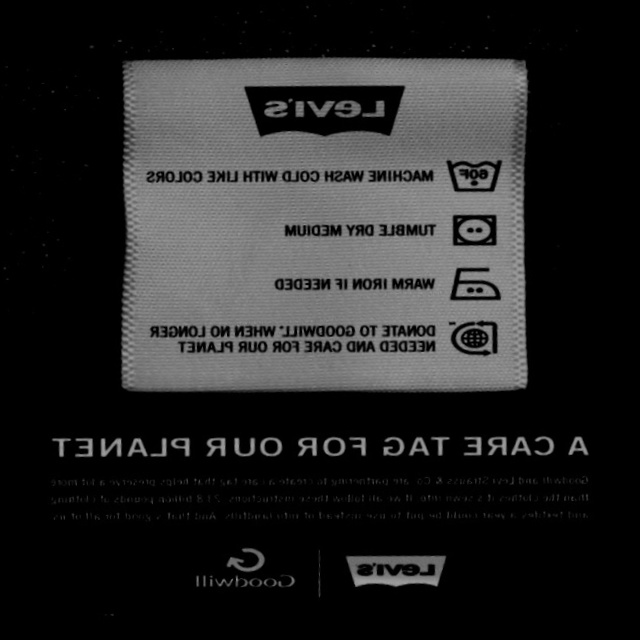30C: (432, 137, 515, 211)
iron_medium: (435, 249, 514, 319)
tumble_dry_medium: (438, 200, 511, 263)
